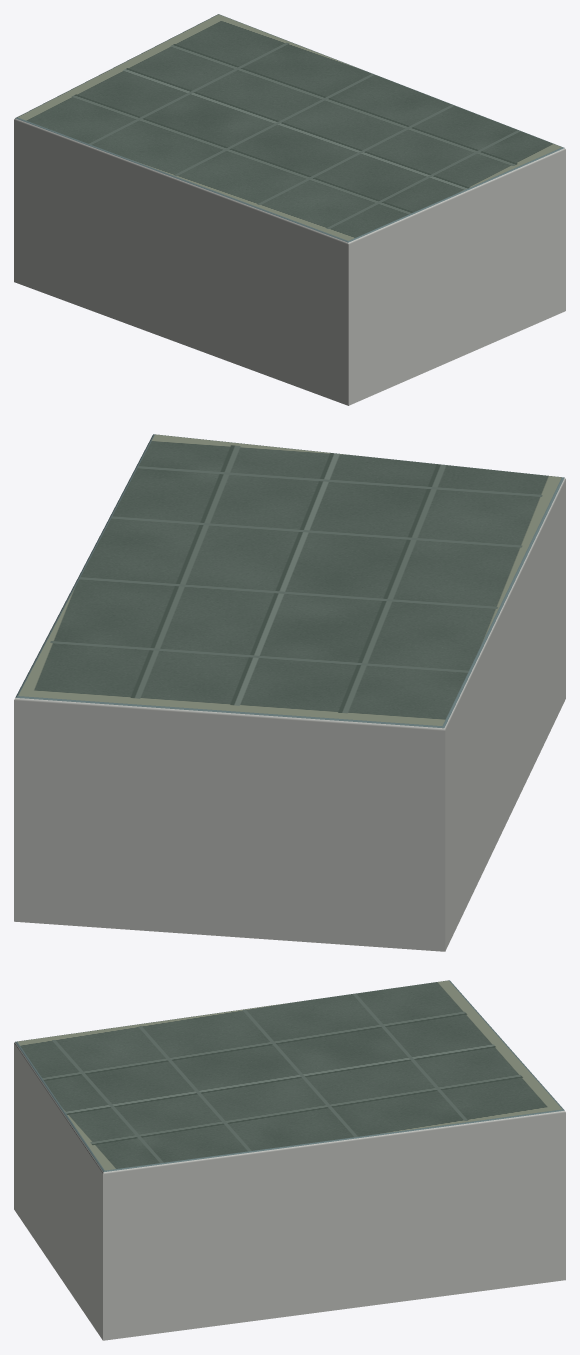
Rendered from intact.glb.
The picture shows the model from 3 angles, top to bottom: view 1: azimuth 30°, elevation 25°; view 2: azimuth 150°, elevation 25°; view 3: azimuth 270°, elevation 25°; orthographic projection. The views are drawn at different scales.
Visible parts, largest first — view 1: SM_gh51_Intact_00; view 2: SM_gh51_Intact_00; view 3: SM_gh51_Intact_00.
Boxes of the visible parts, x1,y1,x2,y2 form: SM_gh51_Intact_00: (14, 14, 565, 405); SM_gh51_Intact_00: (14, 434, 565, 951); SM_gh51_Intact_00: (14, 980, 565, 1340).
Bounding box in the file's own units: 1.82 × 0.7475 × 2.2.
3 materials, 1 textured.
